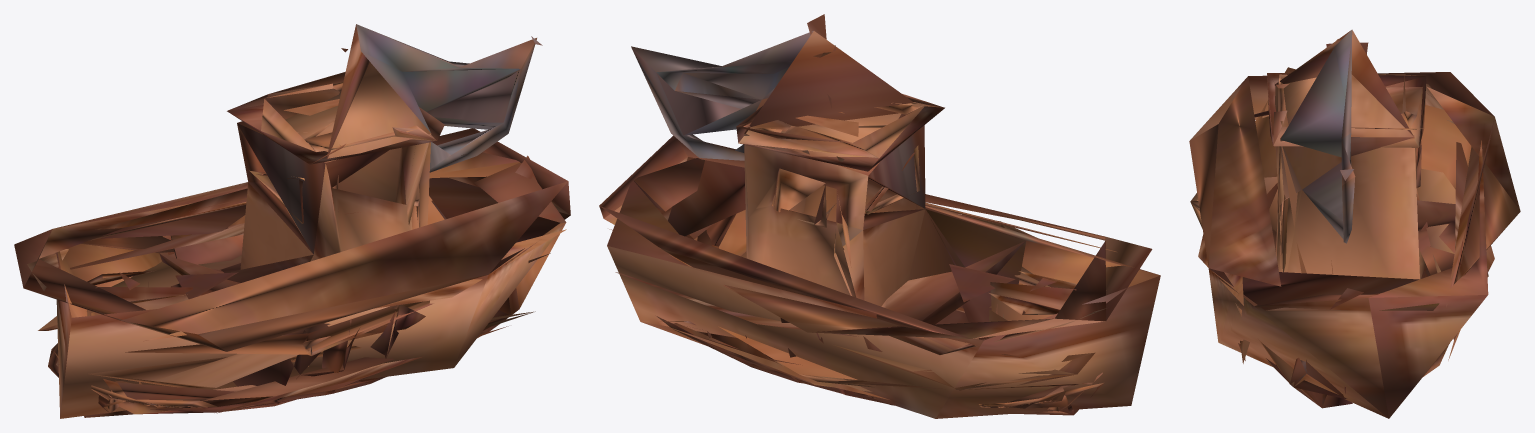
Rendered from lg-fishing-boat.glb.
3 renders of one model, left to right at view 1: azimuth 30°, elevation 25°; view 2: azimuth 150°, elevation 25°; view 3: azimuth 270°, elevation 25°, orthographic.
Parts seen in each view (by area): view 1: geometry_0; view 2: geometry_0; view 3: geometry_0.
Part boxes in pixels (box(x1,y1,x2,y2)): geometry_0: box(14, 24, 570, 418); geometry_0: box(599, 14, 1160, 418); geometry_0: box(1189, 29, 1520, 418).
Bounding box in the file's own units: 1 × 0.6453 × 0.5759.
Materials: 1 (1 with a texture image).
